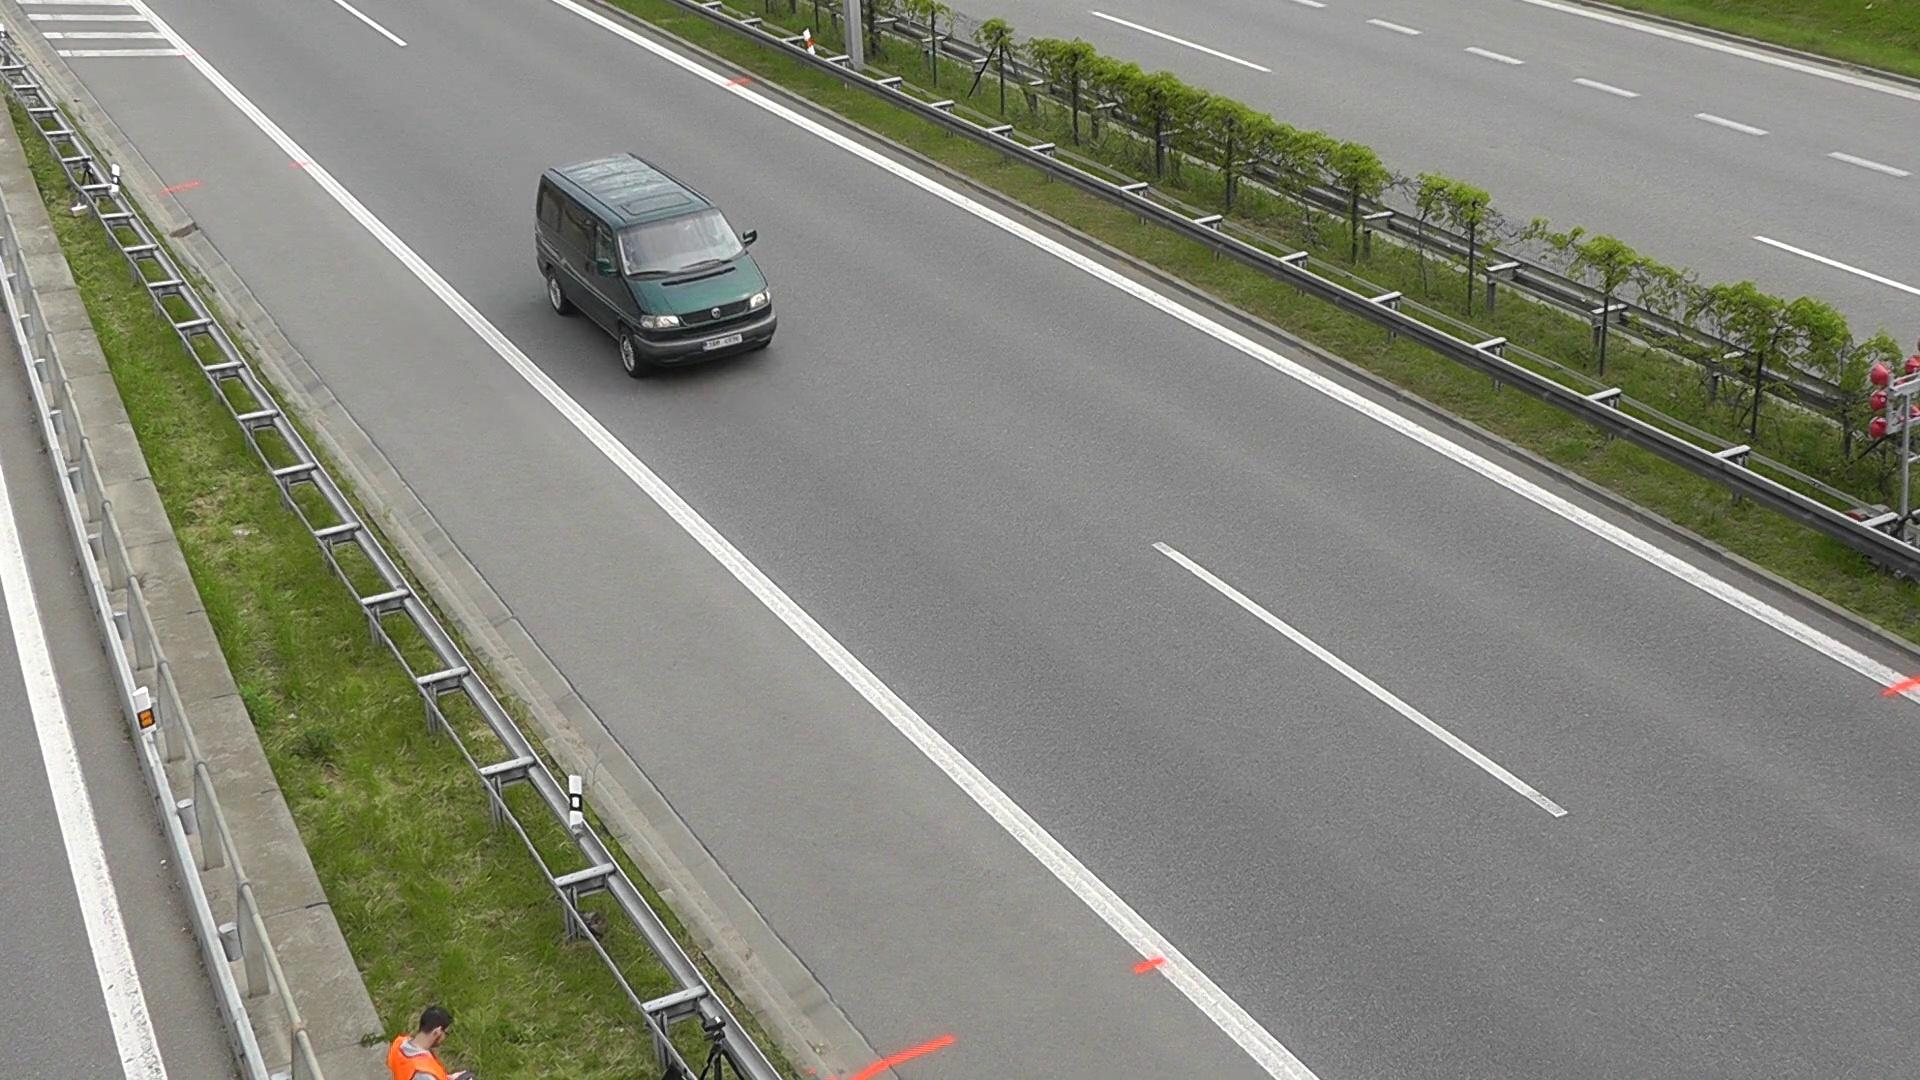Van: (491, 157, 803, 390)
